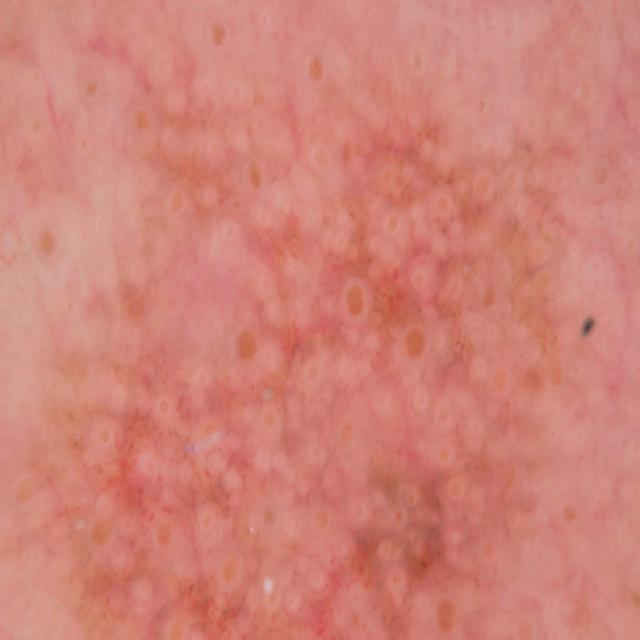Melanoma: (106, 161, 493, 640)
